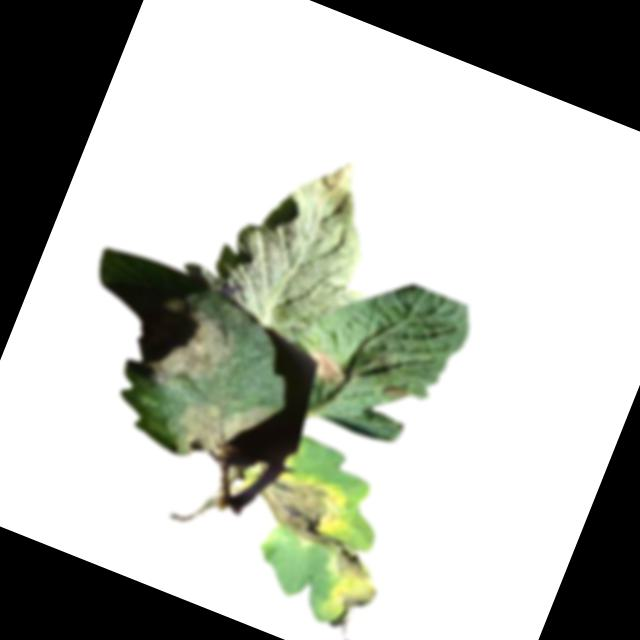Late_blight: (163, 375, 276, 483), (137, 294, 249, 401), (246, 460, 356, 552), (307, 538, 391, 638), (301, 345, 356, 389), (381, 378, 414, 406)
healthy: (173, 119, 412, 360)
